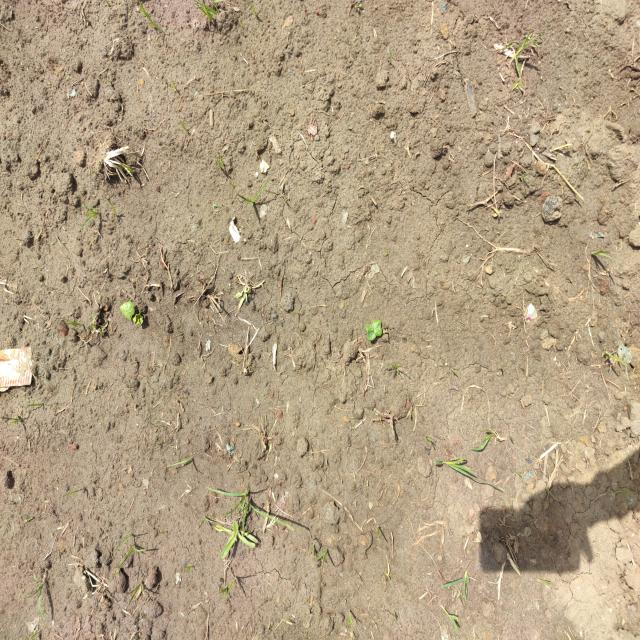seedling: (120, 301, 134, 315), (365, 324, 376, 340), (124, 306, 135, 320), (373, 319, 382, 336)
